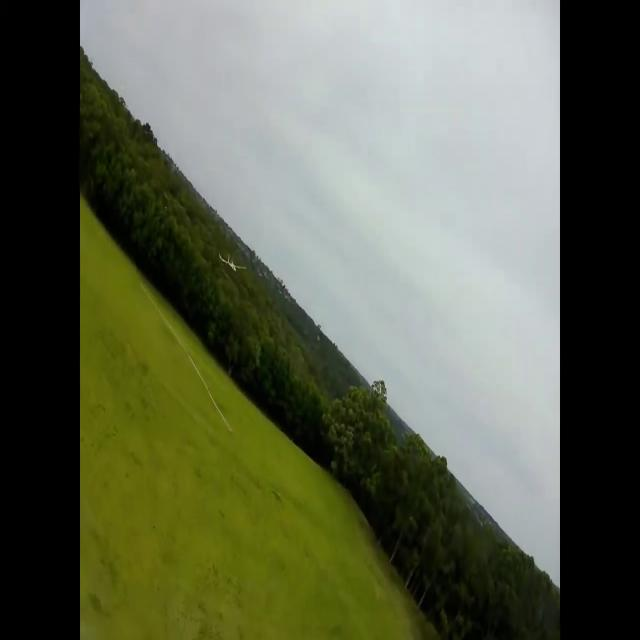iha: (218, 246, 246, 267)
